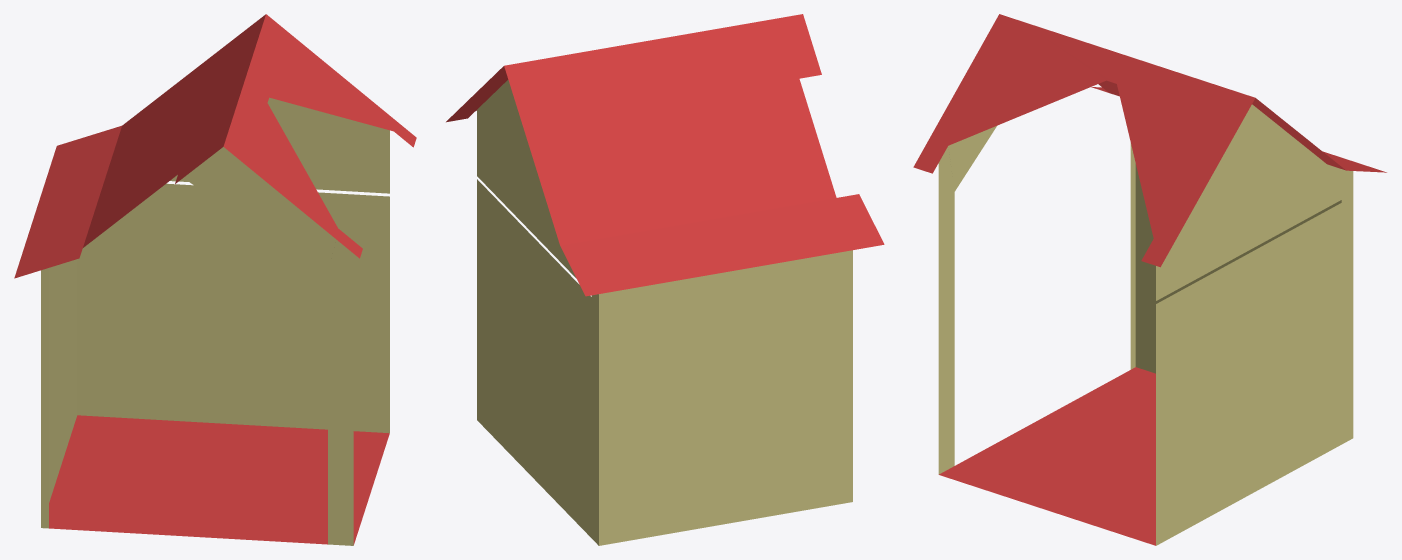
3 renders of one model, left to right at view 1: azimuth 30°, elevation 25°; view 2: azimuth 150°, elevation 25°; view 3: azimuth 270°, elevation 25°, orthographic. The views are drawn at different scales.
Size of the model in its own units: 15.1 by 14.56 by 13.91.
